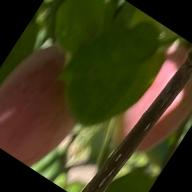Apples: (0, 33, 104, 175), (110, 40, 192, 163)
